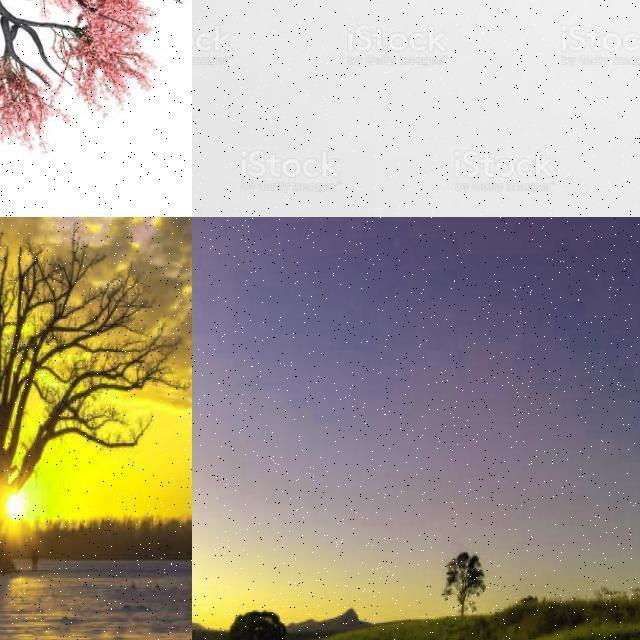tree: (1, 216, 188, 524), (0, 0, 192, 216), (440, 548, 488, 620)
